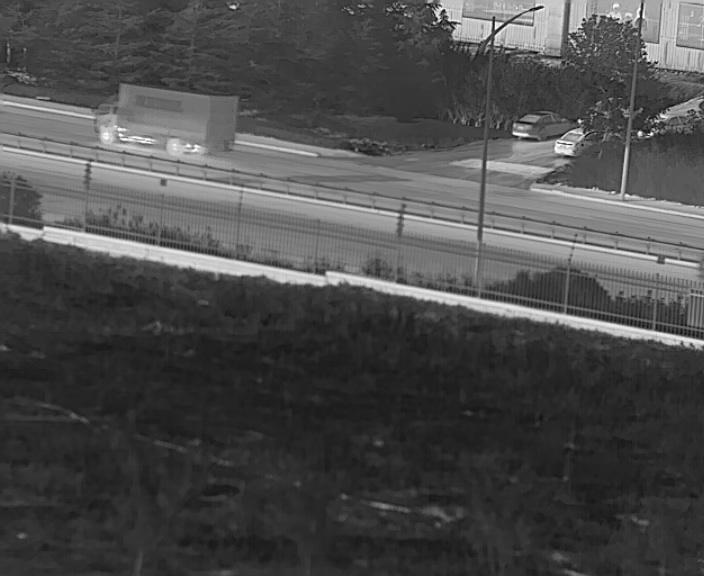vehicle: (94, 82, 236, 156), (511, 110, 566, 140), (553, 127, 584, 156)
